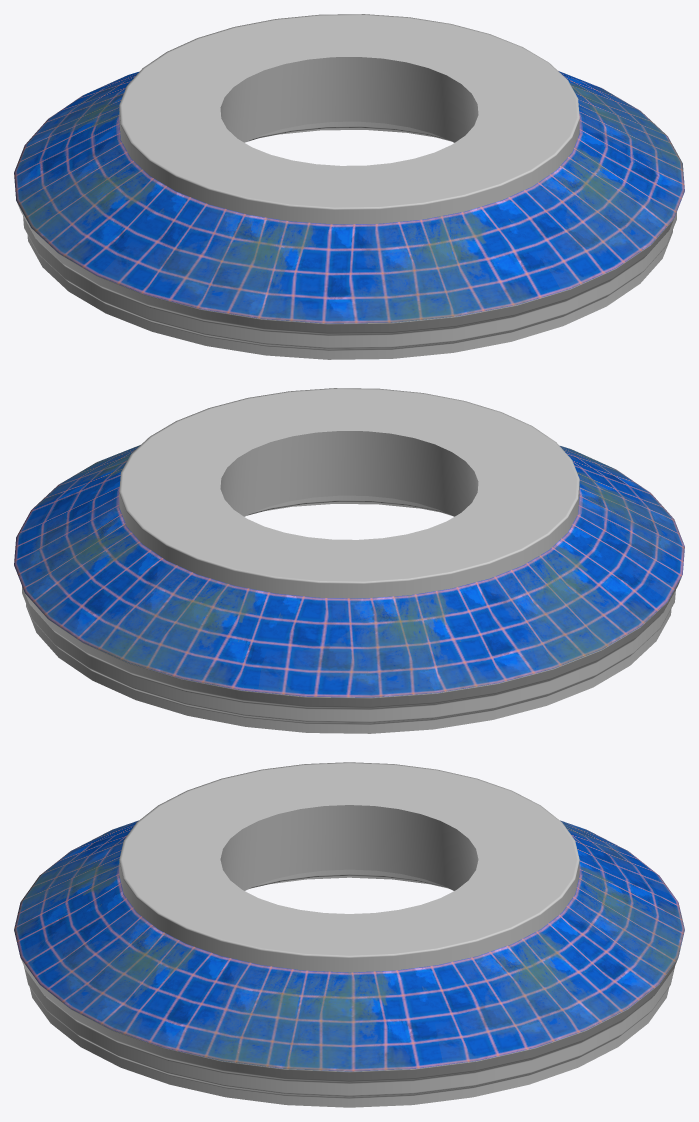
The model's file is SM_Dome_01.fbx.
3 views of the same model, one above another, from view 1: azimuth 30°, elevation 25°; view 2: azimuth 150°, elevation 25°; view 3: azimuth 270°, elevation 25° (orthographic).
Parts seen in each view (by area): view 1: SM_Dome_01_LOD0; view 2: SM_Dome_01_LOD0; view 3: SM_Dome_01_LOD0.
Part boxes in pixels (bbox=[...]): SM_Dome_01_LOD0: bbox=[14, 14, 684, 359]; SM_Dome_01_LOD0: bbox=[14, 388, 684, 733]; SM_Dome_01_LOD0: bbox=[14, 762, 684, 1107].
Size of the model in its own units: 709 by 709 by 130.
